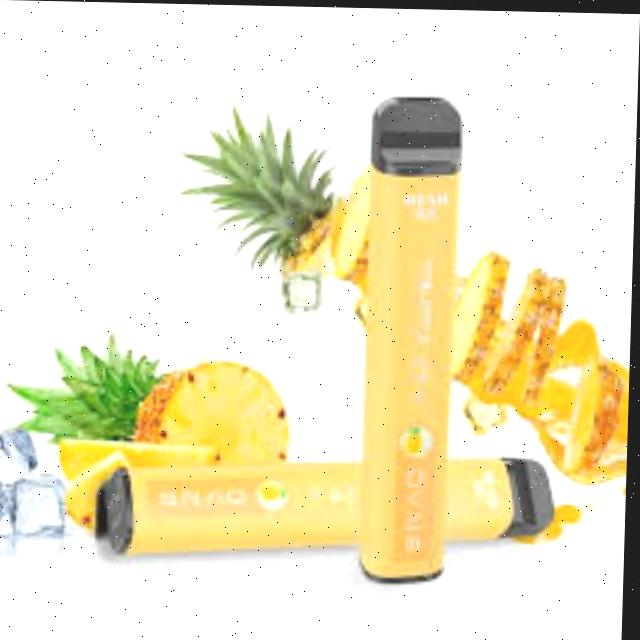vape: (110, 447, 561, 563), (360, 93, 464, 586)
